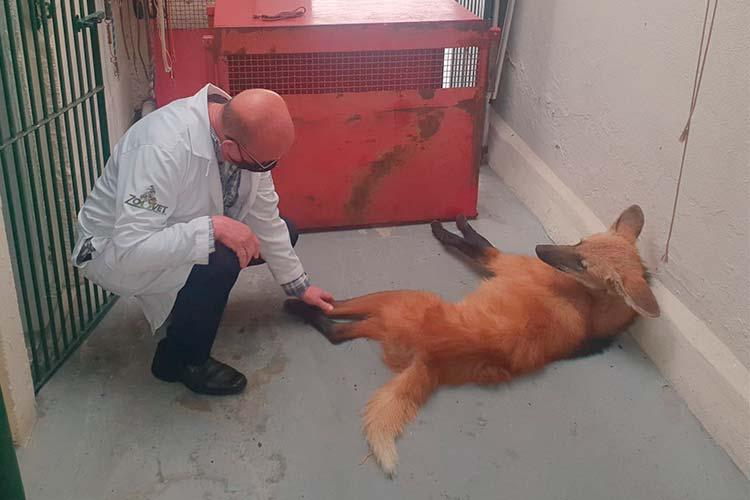LoboGuara: (314, 219, 670, 479)
